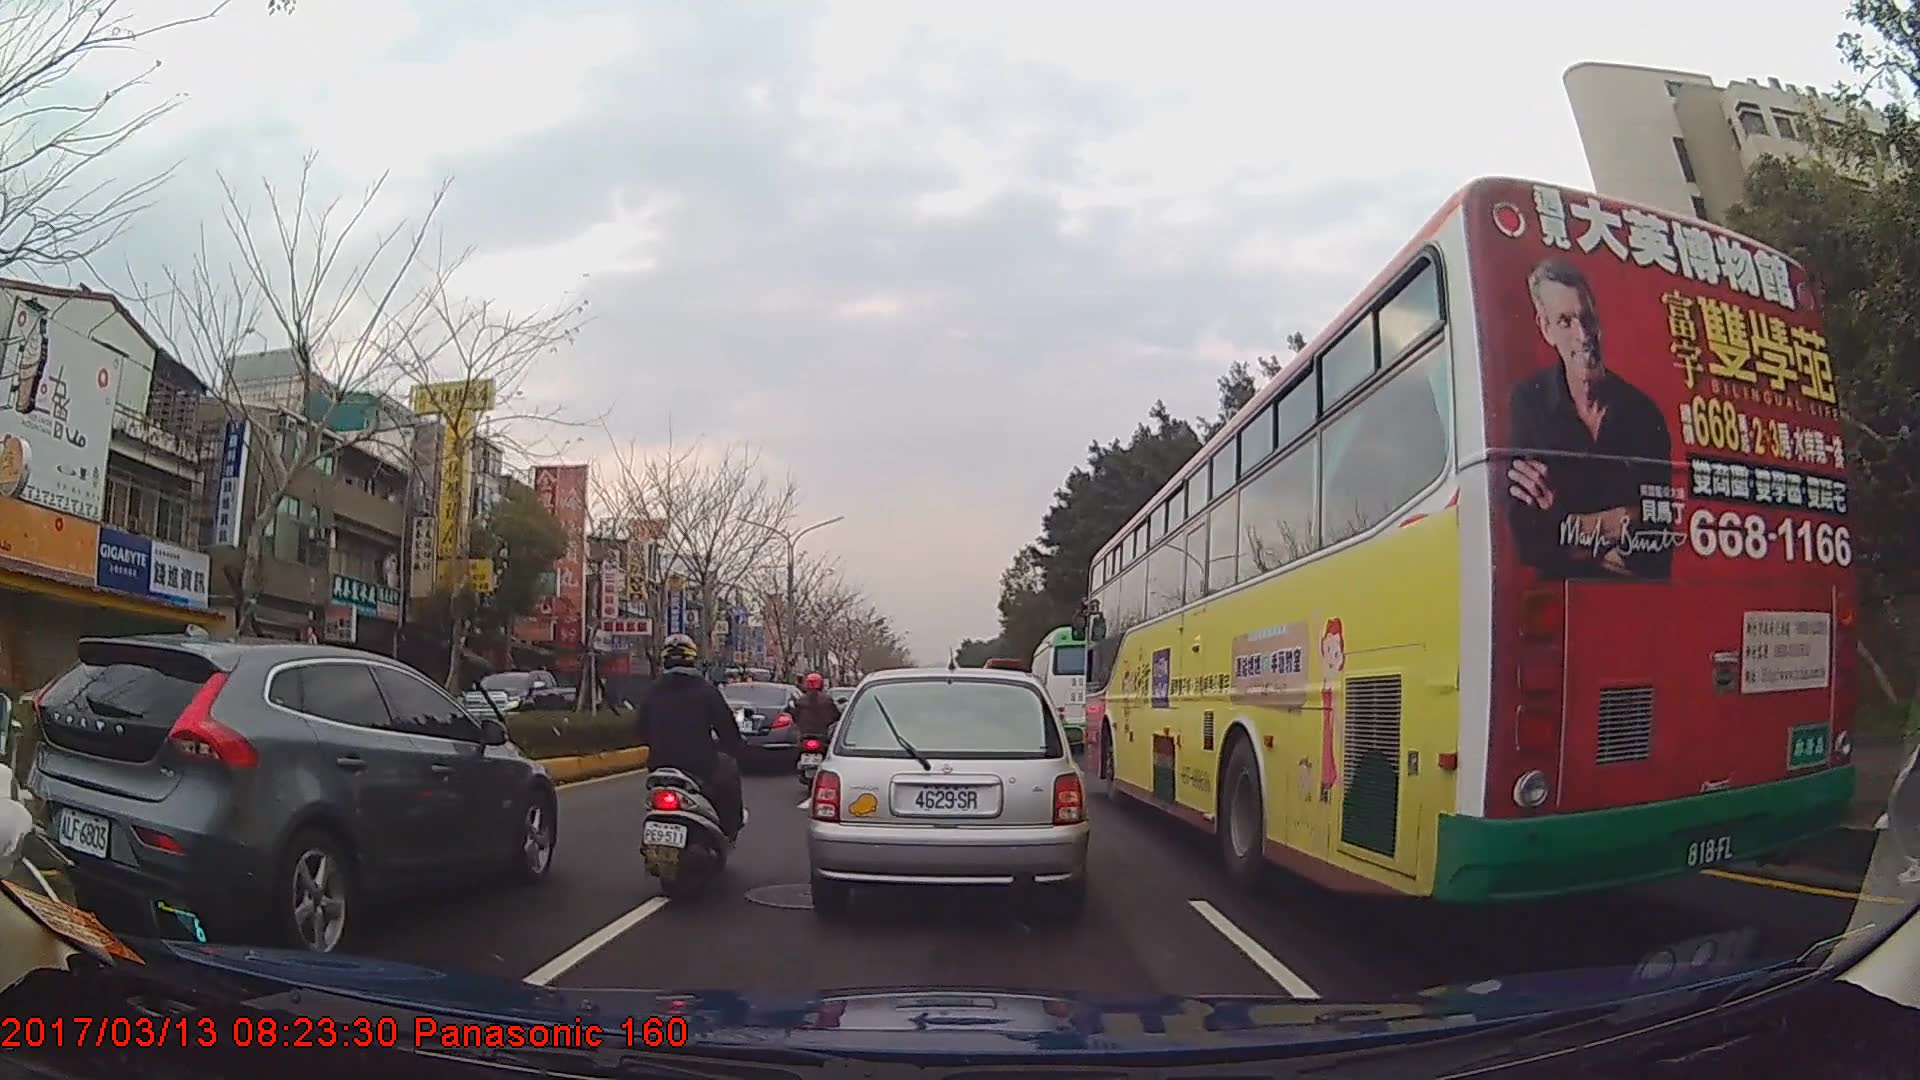rider: (630, 631, 745, 902), (787, 673, 844, 791)
vehicle: (1082, 172, 1864, 914), (19, 632, 557, 950), (809, 666, 1088, 921), (1027, 626, 1116, 749), (701, 680, 815, 772), (458, 667, 578, 734)
